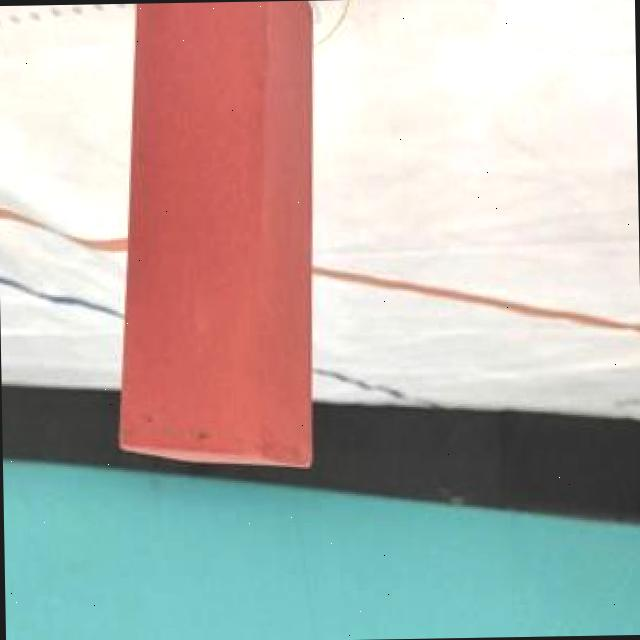redbox: (109, 0, 322, 477)
